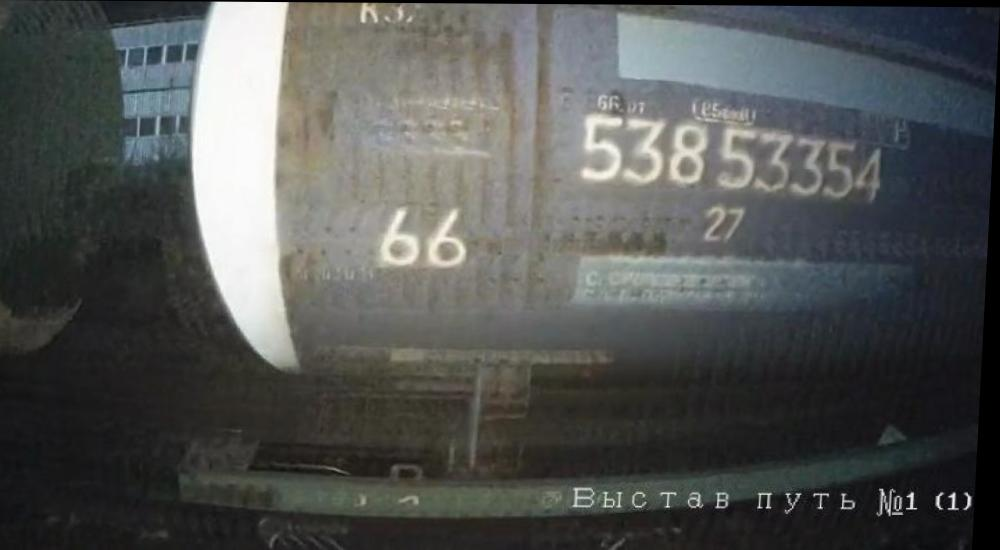Wagon-number: (574, 112, 891, 205)
